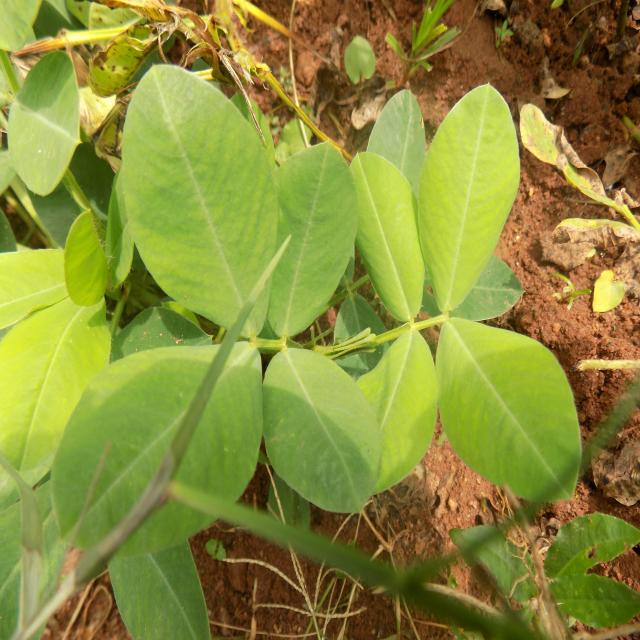Ground nut_healthy: (120, 58, 280, 338), (437, 316, 580, 507), (418, 81, 520, 312), (266, 355, 381, 515), (273, 141, 359, 348), (346, 149, 428, 320)
